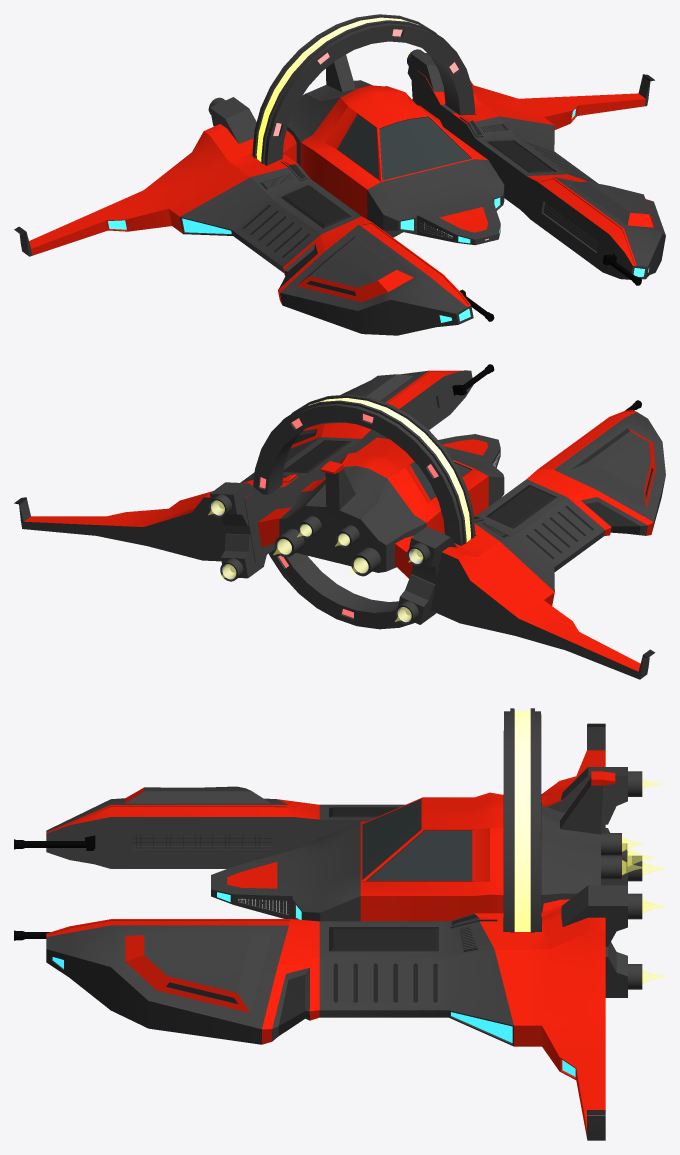
File: space_fighter_the_protector_of_the_galaxy.glb
3 renders of one model, top to bottom at view 1: azimuth 30°, elevation 25°; view 2: azimuth 150°, elevation 25°; view 3: azimuth 270°, elevation 25°, orthographic. The views are drawn at different scales.
Visible parts, largest first — view 1: Object_10, Object_8, Object_11, Object_7, Object_5, Object_6, Object_2, Object_4; view 2: Object_10, Object_8, Object_11, Object_5, Object_9, Object_6, Object_3, Object_4; view 3: Object_10, Object_8, Object_5, Object_7, Object_11, Object_6, Object_3, Object_2, Object_4.
Part boxes in pixels (left/top/right/bottom): Object_10: left=19, top=49, right=665, bottom=335; Object_8: left=29, top=70, right=654, bottom=306; Object_11: left=252, top=14, right=475, bottom=237; Object_7: left=338, top=114, right=469, bottom=179; Object_5: left=14, top=74, right=654, bottom=295; Object_6: left=256, top=17, right=418, bottom=161; Object_2: left=108, top=108, right=648, bottom=322; Object_4: left=460, top=253, right=641, bottom=321; Object_10: left=19, top=370, right=665, bottom=679; Object_8: left=24, top=370, right=655, bottom=671; Object_11: left=253, top=394, right=475, bottom=629; Object_5: left=14, top=433, right=655, bottom=657; Object_9: left=211, top=453, right=499, bottom=622; Object_6: left=308, top=398, right=470, bottom=542; Object_3: left=208, top=501, right=422, bottom=621; Object_4: left=452, top=364, right=641, bottom=410; Object_10: left=46, top=727, right=642, bottom=1140; Object_8: left=46, top=750, right=615, bottom=1137; Object_5: left=166, top=723, right=605, bottom=1115; Object_7: left=362, top=801, right=472, bottom=880; Object_11: left=503, top=708, right=541, bottom=932; Object_6: left=514, top=711, right=530, bottom=931; Object_3: left=622, top=778, right=665, bottom=983; Object_2: left=52, top=892, right=575, bottom=1076; Object_4: left=14, top=835, right=95, bottom=940.
Size of the model in its own units: 289 by 96.48 by 203.
